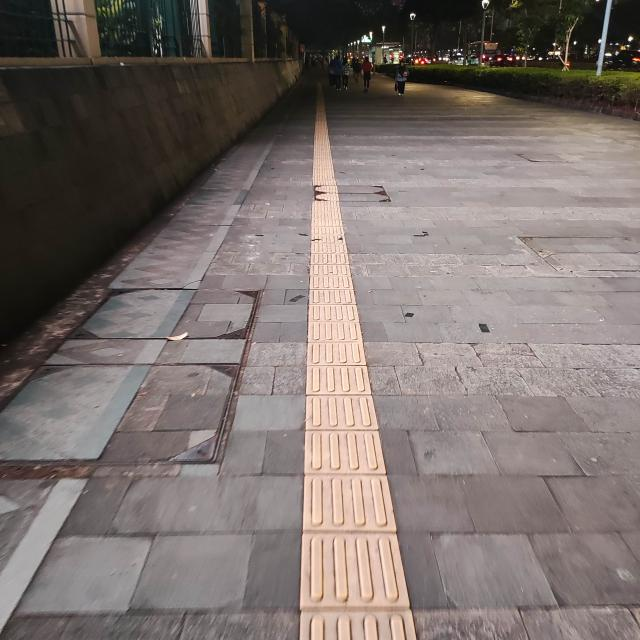lurus: (287, 153, 406, 640)
